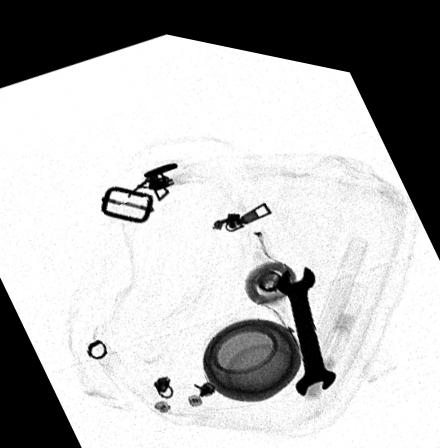Wrench: (274, 250, 337, 385)
